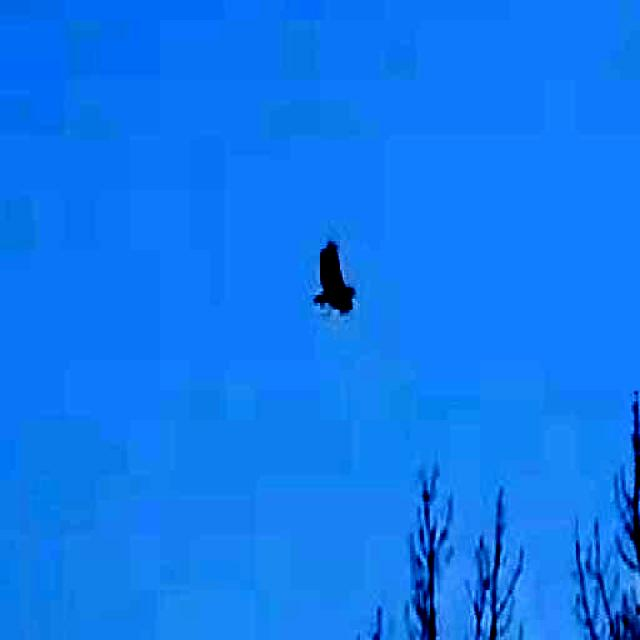airplane: (304, 229, 360, 321)
